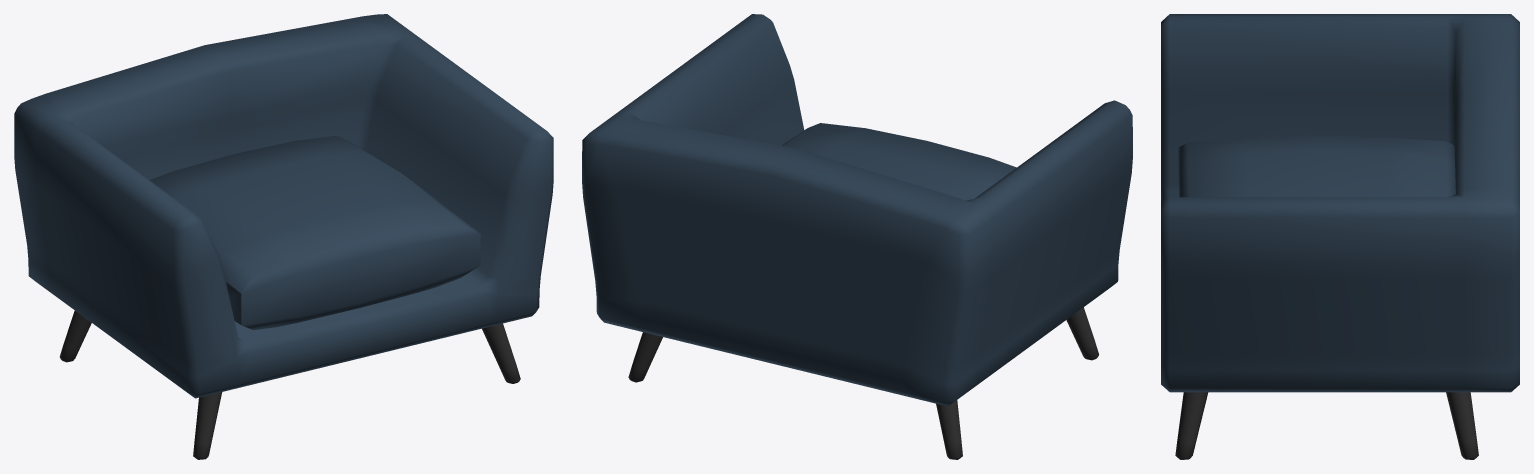
Rendered from Couch_Small1.glb.
3 views of the same model, side by side, from view 1: azimuth 30°, elevation 25°; view 2: azimuth 150°, elevation 25°; view 3: azimuth 270°, elevation 25° (orthographic). The views are drawn at different scales.
Parts seen in each view (by area): view 1: Couch_Small1; view 2: Couch_Small1; view 3: Couch_Small1.
Boxes of the visible parts, <box> form: Couch_Small1: <box>14,14,553,459</box>; Couch_Small1: <box>582,14,1132,459</box>; Couch_Small1: <box>1161,14,1519,459</box>.
Size of the model in its own units: 1.41 by 0.934 by 1.08.
Materials: 2 (2 with a texture image).
